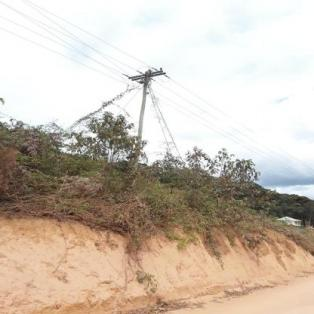Poste: (127, 71, 153, 166)
